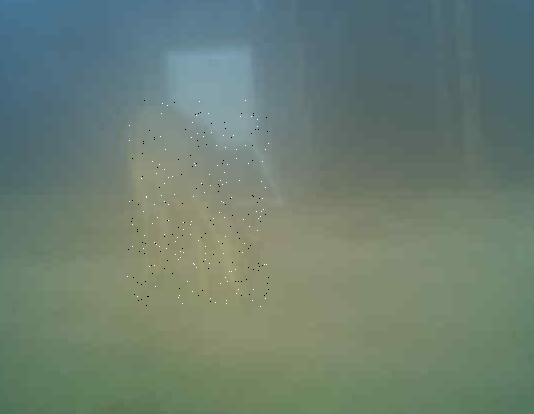Deer: (127, 101, 269, 308)
